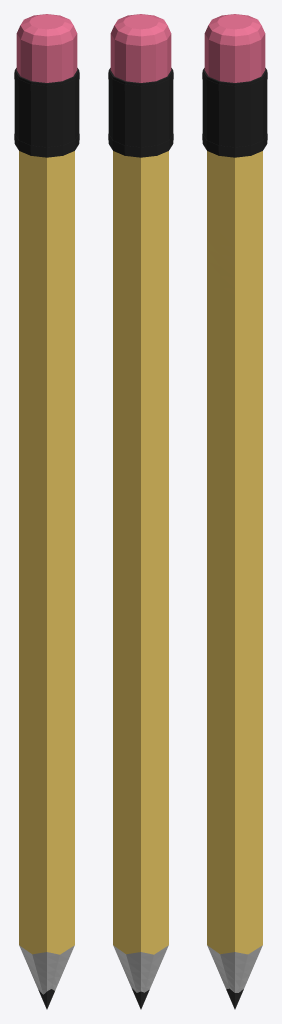
File: pencil.obj
The picture shows the model from 3 angles, left to right: view 1: azimuth 30°, elevation 25°; view 2: azimuth 150°, elevation 25°; view 3: azimuth 330°, elevation 25°; orthographic projection.
Parts seen in each view (by area): view 1: pencil_tip, Cylinder.1, Cylinder.2, Cylinder.4, Cylinder.3; view 2: pencil_tip, Cylinder.1, Cylinder.2, Cylinder.4, Cylinder.3; view 3: pencil_tip, Cylinder.1, Cylinder.2, Cylinder.4, Cylinder.3.
Boxes of the visible parts, x1=… form: pencil_tip: x1=19, y1=151, x2=74, y2=1009; Cylinder.1: x1=14, y1=68, x2=79, y2=157; Cylinder.2: x1=16, y1=14, x2=77, y2=82; Cylinder.4: x1=14, y1=133, x2=79, y2=153; Cylinder.3: x1=14, y1=72, x2=79, y2=92; pencil_tip: x1=113, y1=151, x2=168, y2=1009; Cylinder.1: x1=108, y1=68, x2=173, y2=157; Cylinder.2: x1=110, y1=14, x2=171, y2=82; Cylinder.4: x1=108, y1=133, x2=173, y2=153; Cylinder.3: x1=108, y1=72, x2=173, y2=92; pencil_tip: x1=207, y1=151, x2=262, y2=1009; Cylinder.1: x1=202, y1=68, x2=267, y2=157; Cylinder.2: x1=204, y1=14, x2=265, y2=82; Cylinder.4: x1=202, y1=133, x2=267, y2=153; Cylinder.3: x1=202, y1=72, x2=267, y2=92.
Size of the model in its own units: 22.64 by 379 by 22.64.
